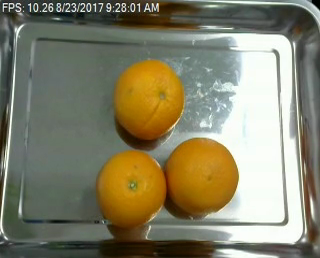Orange: (111, 59, 184, 140), (165, 137, 238, 215), (96, 149, 167, 227)
